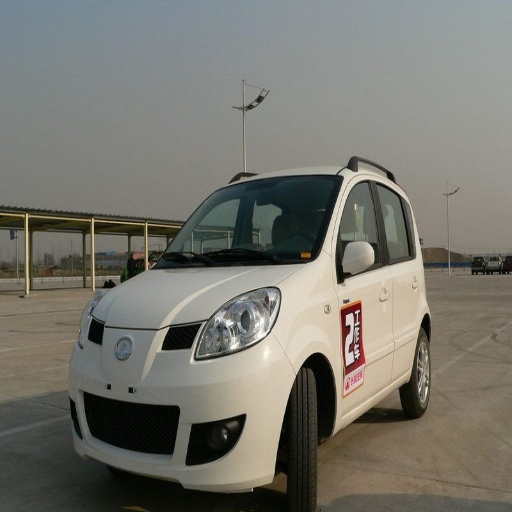front_bumper: (72, 318, 298, 489)
front_glass: (155, 178, 340, 268)
front_left_door: (336, 175, 393, 402)
